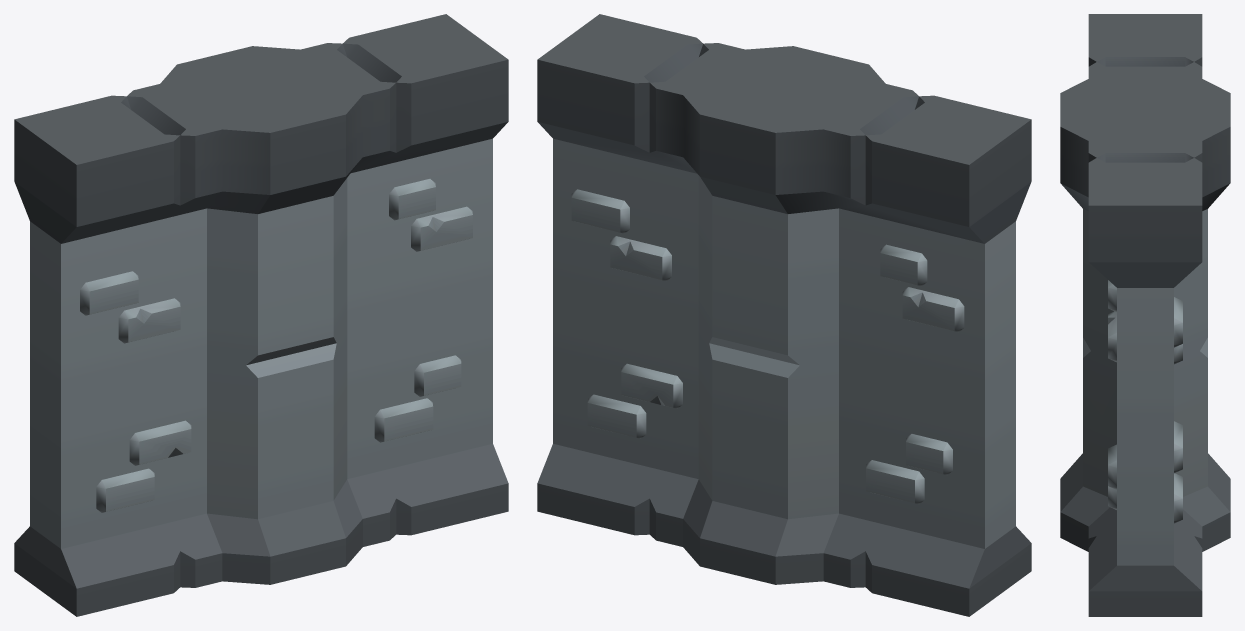
Rendered from wall_pillar.glb.
The picture shows the model from 3 angles, left to right: view 1: azimuth 30°, elevation 25°; view 2: azimuth 150°, elevation 25°; view 3: azimuth 270°, elevation 25°; orthographic projection. The views are drawn at different scales.
Parts seen in each view (by area): view 1: wall_pillar; view 2: wall_pillar; view 3: wall_pillar.
Part boxes in pixels (left/top/right/bottom): wall_pillar: left=14, top=14, right=508, bottom=616; wall_pillar: left=537, top=14, right=1031, bottom=616; wall_pillar: left=1060, top=14, right=1230, bottom=616.
Bounding box in the file's own units: 4 × 4 × 1.5.
1 material, 1 textured.
